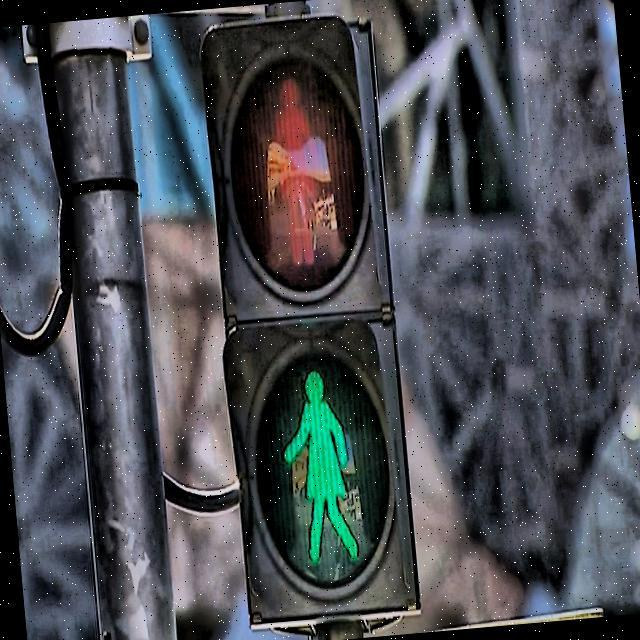green_light: (272, 363, 362, 570)
